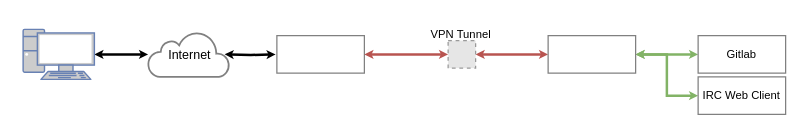
Some shapes in this 808 by 136 pixel diagram are drawn without their labels. Grey dashed boxes stand in for pictures. Here are the shapes that lost their labels. From the top down, the box of each, then its label:
(276, 34, 364, 73): Ngnix Proxy OVH VM
(547, 34, 636, 73): Ngnix Proxy
